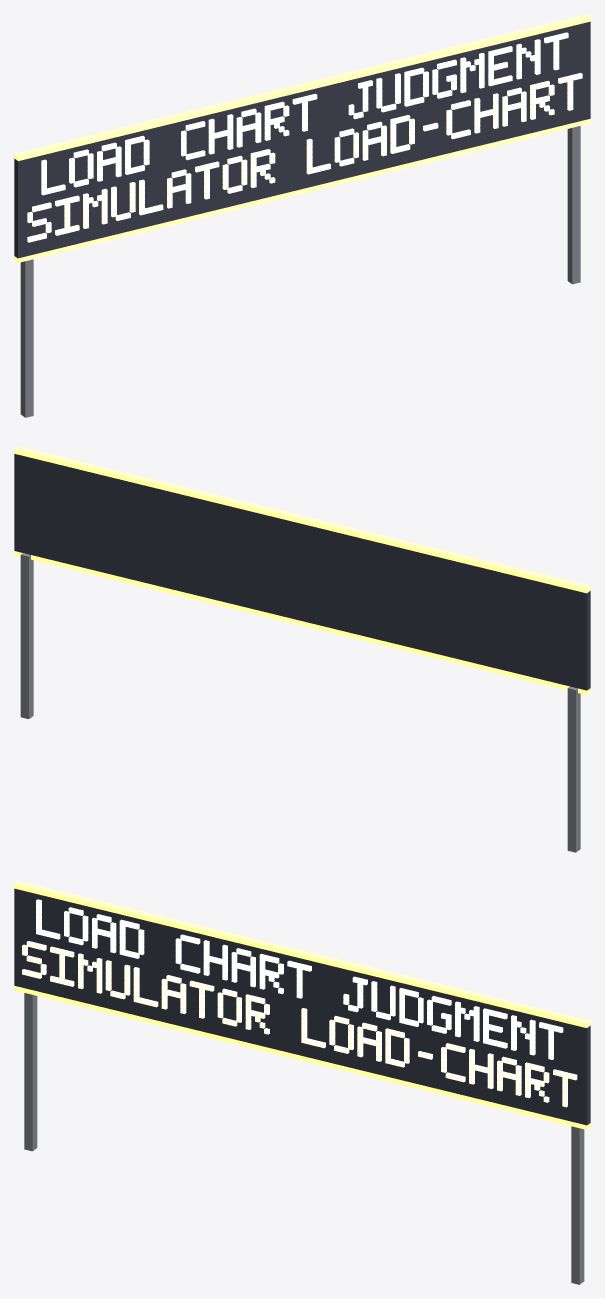
Rendered from wing-sign-load-chart.glb.
3 renders of one model, top to bottom at view 1: azimuth 30°, elevation 25°; view 2: azimuth 150°, elevation 25°; view 3: azimuth 330°, elevation 25°, orthographic.
Parts seen in each view (by area): view 1: Sign · Load Chart Judgment; view 2: Sign · Load Chart Judgment; view 3: Sign · Load Chart Judgment.
Part boxes in pixels (x1,y1,x2,y2): Sign · Load Chart Judgment: [14, 14, 590, 417]; Sign · Load Chart Judgment: [14, 446, 590, 852]; Sign · Load Chart Judgment: [14, 881, 590, 1284].
Size of the model in its own units: 11.07 by 4.88 by 0.254.
